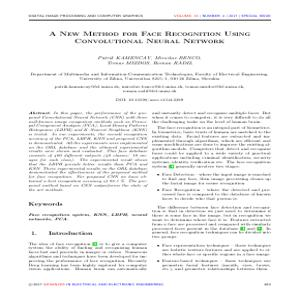text: (26, 108, 151, 273), (153, 110, 273, 276), (26, 69, 272, 96), (43, 25, 255, 48), (93, 52, 205, 69)
